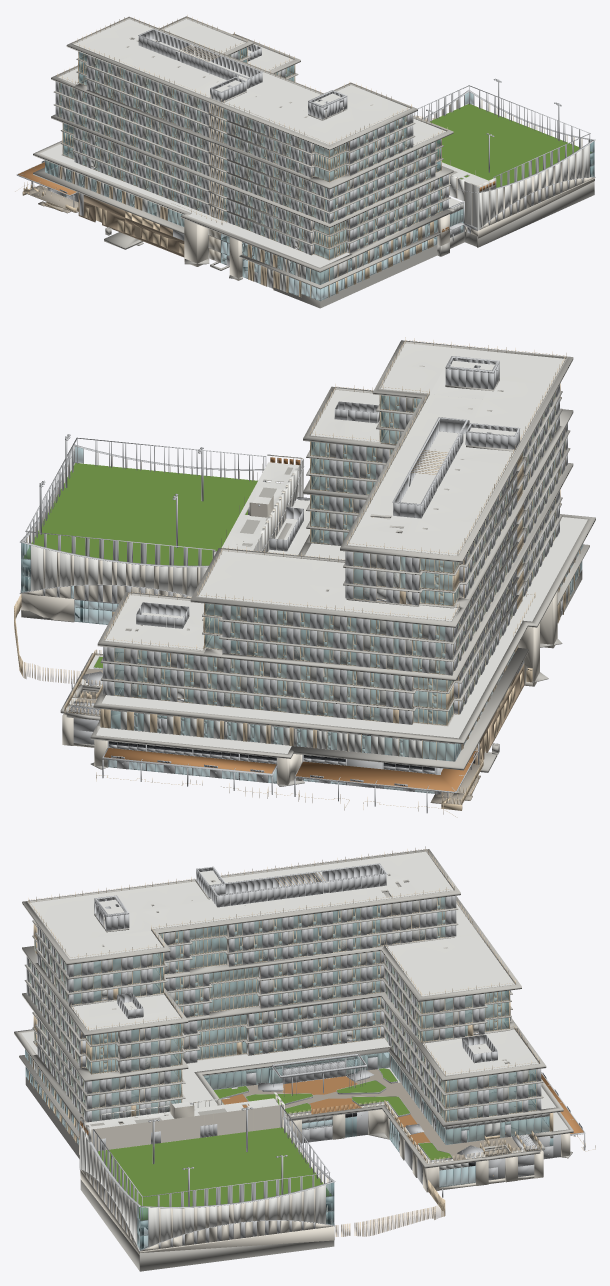
The model's file is Discovery Hall.glb.
The picture shows the model from 3 angles, top to bottom: view 1: azimuth 30°, elevation 25°; view 2: azimuth 150°, elevation 25°; view 3: azimuth 270°, elevation 25°; orthographic projection. The views are drawn at different scales.
Parts seen in each view (by area): view 1: NC-F-PA BLOCK F PHASE A CONCRETE, NC-F-PA BLOCK F PHASE A METAL SILVER, NC-F-PA BLOCK F PHASE A GLASS, NC-F-PA BLOCK F PHASE A ROOF, NC-F-PA BLOCK F PHASE A LIGHT CHAMPAGNE, NC-F-PA BLOCK F PHASE A PANEL GREY, NC-F-PA BLOCK F PHASE A LS LAWN, NC-F-PA BLOCK F PHASE A CREAM, NC-F-PA BLOCK F PHASE A STUCCO WHITE, NC-F-PA BLOCK F PHASE A SAND, NC-F-PA BLOCK F PHASE A LS PAVERS, NC-F-PA BLOCK F PHASE A WOOD; view 2: NC-F-PA BLOCK F PHASE A CONCRETE, NC-F-PA BLOCK F PHASE A ROOF, NC-F-PA BLOCK F PHASE A METAL SILVER, NC-F-PA BLOCK F PHASE A GLASS, NC-F-PA BLOCK F PHASE A LIGHT CHAMPAGNE, NC-F-PA BLOCK F PHASE A LS LAWN, NC-F-PA BLOCK F PHASE A PANEL GREY, NC-F-PA BLOCK F PHASE A CREAM, NC-F-PA BLOCK F PHASE A STUCCO WHITE, NC-F-PA BLOCK F PHASE A WOOD, NC-F-PA BLOCK F PHASE A METAL DARK, NC-F-PA BLOCK F PHASE A SAND (+1 smaller); view 3: NC-F-PA BLOCK F PHASE A CONCRETE, NC-F-PA BLOCK F PHASE A METAL SILVER, NC-F-PA BLOCK F PHASE A GLASS, NC-F-PA BLOCK F PHASE A ROOF, NC-F-PA BLOCK F PHASE A LIGHT CHAMPAGNE, NC-F-PA BLOCK F PHASE A LS LAWN, NC-F-PA BLOCK F PHASE A CREAM, NC-F-PA BLOCK F PHASE A PANEL GREY, NC-F-PA BLOCK F PHASE A STUCCO WHITE, NC-F-PA BLOCK F PHASE A LS PAVERS, NC-F-PA BLOCK F PHASE A WOOD.
Part boxes in pixels (left/top/right/bottom): NC-F-PA BLOCK F PHASE A CONCRETE: left=33, top=16, right=594, bottom=308; NC-F-PA BLOCK F PHASE A METAL SILVER: left=16, top=28, right=595, bottom=300; NC-F-PA BLOCK F PHASE A GLASS: left=45, top=47, right=594, bottom=300; NC-F-PA BLOCK F PHASE A ROOF: left=40, top=19, right=488, bottom=267; NC-F-PA BLOCK F PHASE A LIGHT CHAMPAGNE: left=15, top=15, right=447, bottom=297; NC-F-PA BLOCK F PHASE A PANEL GREY: left=58, top=56, right=463, bottom=291; NC-F-PA BLOCK F PHASE A LS LAWN: left=430, top=104, right=591, bottom=187; NC-F-PA BLOCK F PHASE A CREAM: left=184, top=100, right=594, bottom=280; NC-F-PA BLOCK F PHASE A STUCCO WHITE: left=430, top=99, right=589, bottom=230; NC-F-PA BLOCK F PHASE A SAND: left=78, top=193, right=184, bottom=257; NC-F-PA BLOCK F PHASE A LS PAVERS: left=24, top=185, right=78, bottom=213; NC-F-PA BLOCK F PHASE A WOOD: left=18, top=162, right=495, bottom=232; NC-F-PA BLOCK F PHASE A CONCRETE: left=21, top=340, right=595, bottom=786; NC-F-PA BLOCK F PHASE A ROOF: left=69, top=343, right=587, bottom=753; NC-F-PA BLOCK F PHASE A METAL SILVER: left=19, top=356, right=582, bottom=813; NC-F-PA BLOCK F PHASE A GLASS: left=21, top=393, right=583, bottom=793; NC-F-PA BLOCK F PHASE A LIGHT CHAMPAGNE: left=14, top=337, right=580, bottom=817; NC-F-PA BLOCK F PHASE A LS LAWN: left=24, top=463, right=257, bottom=668; NC-F-PA BLOCK F PHASE A PANEL GREY: left=111, top=396, right=577, bottom=758; NC-F-PA BLOCK F PHASE A CREAM: left=20, top=453, right=557, bottom=785; NC-F-PA BLOCK F PHASE A STUCCO WHITE: left=24, top=452, right=303, bottom=596; NC-F-PA BLOCK F PHASE A WOOD: left=104, top=457, right=477, bottom=791; NC-F-PA BLOCK F PHASE A METAL DARK: left=25, top=567, right=475, bottom=785; NC-F-PA BLOCK F PHASE A SAND: left=472, top=663, right=524, bottom=764; NC-F-PA BLOCK F PHASE A CONCRETE: left=14, top=849, right=573, bottom=1271; NC-F-PA BLOCK F PHASE A METAL SILVER: left=25, top=863, right=585, bottom=1251; NC-F-PA BLOCK F PHASE A GLASS: left=25, top=897, right=553, bottom=1250; NC-F-PA BLOCK F PHASE A ROOF: left=21, top=851, right=568, bottom=1163; NC-F-PA BLOCK F PHASE A LIGHT CHAMPAGNE: left=28, top=846, right=595, bottom=1236; NC-F-PA BLOCK F PHASE A LS LAWN: left=98, top=1068, right=451, bottom=1220; NC-F-PA BLOCK F PHASE A CREAM: left=79, top=1094, right=570, bottom=1254; NC-F-PA BLOCK F PHASE A PANEL GREY: left=31, top=898, right=553, bottom=1170; NC-F-PA BLOCK F PHASE A STUCCO WHITE: left=79, top=1091, right=330, bottom=1246; NC-F-PA BLOCK F PHASE A LS PAVERS: left=243, top=1069, right=520, bottom=1160; NC-F-PA BLOCK F PHASE A WOOD: left=79, top=1073, right=583, bottom=1144.
Bounding box in the file's own units: 110 × 47.99 × 109.
